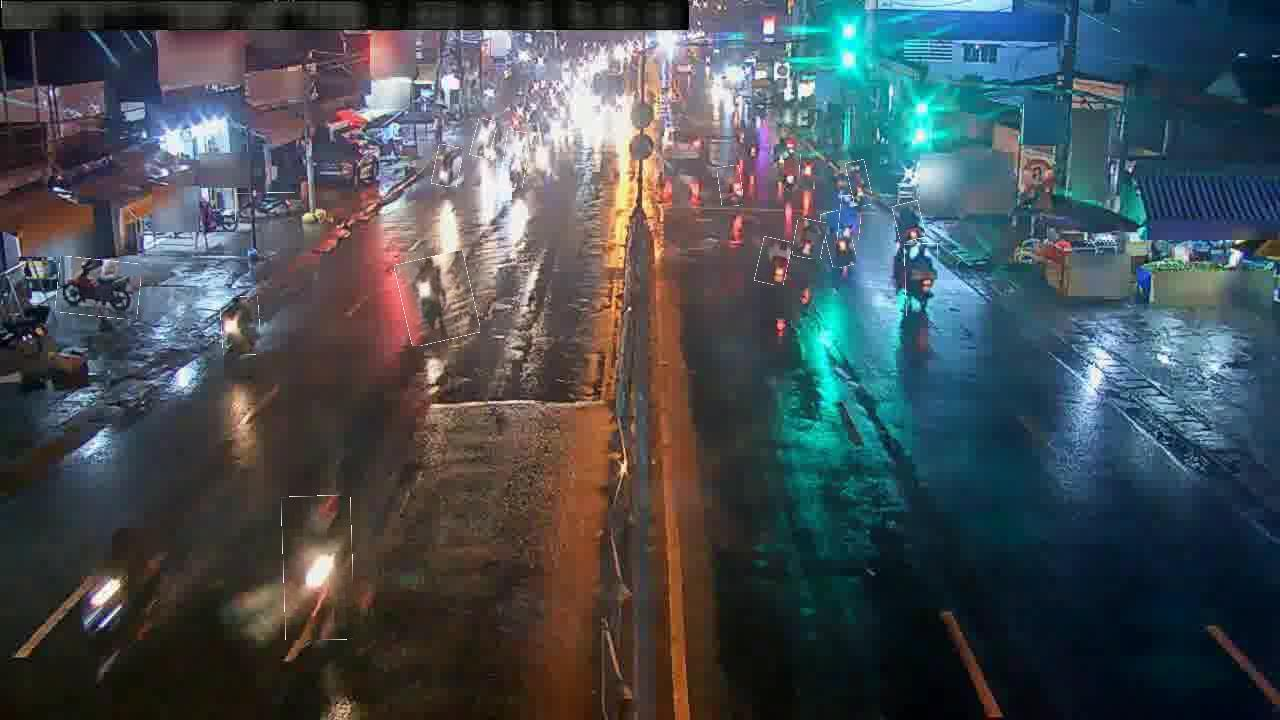container: (660, 125, 706, 165)
motorbike: (282, 496, 353, 641), (399, 254, 477, 344), (57, 258, 141, 318), (905, 244, 939, 317), (221, 296, 261, 356), (823, 210, 854, 268), (235, 193, 296, 222), (501, 131, 528, 189), (757, 238, 790, 285), (794, 219, 826, 259), (433, 145, 462, 187), (894, 202, 924, 241), (848, 160, 871, 207), (838, 196, 861, 241), (719, 166, 743, 207), (472, 119, 495, 159), (800, 154, 816, 190)
